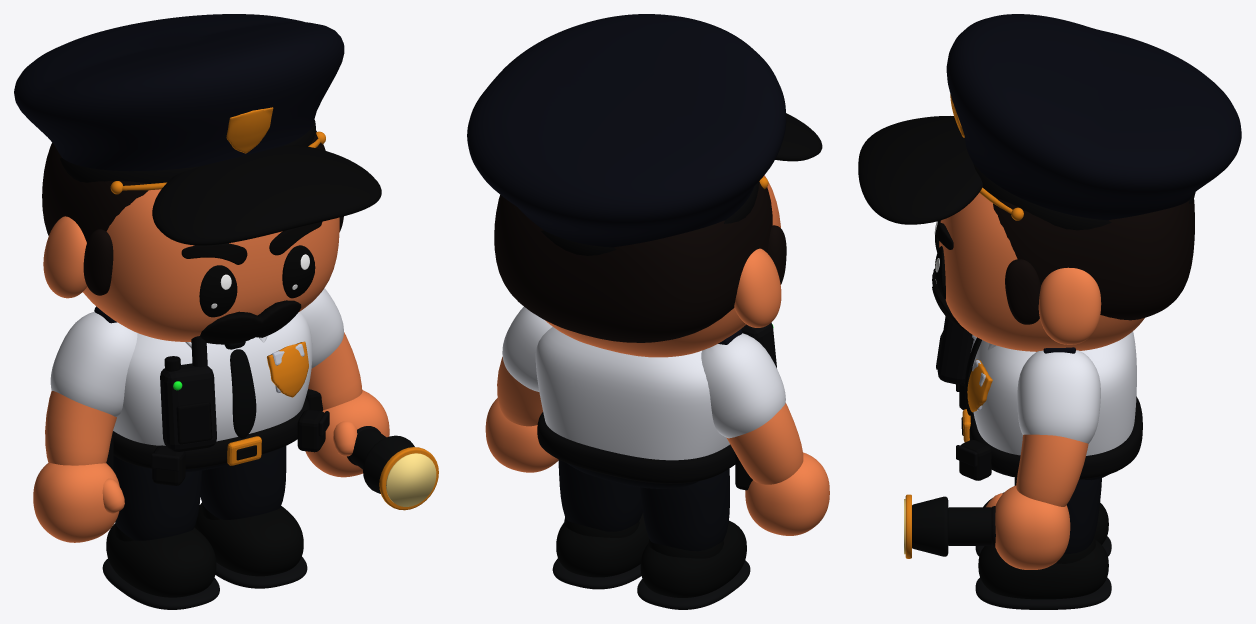
Rendered from guardia_partes.obj.
3 renders of one model, left to right at view 1: azimuth 30°, elevation 25°; view 2: azimuth 150°, elevation 25°; view 3: azimuth 270°, elevation 25°, orthographic. The views are drawn at different scales.
Visible parts, largest first — view 1: cabeza_gorra_cabeza_gorra, cabeza_piel_cabeza_piel, cabeza_visera_2_cabeza_visera_2, pecho_pantalon_pecho_pantalon, brazo.R_camisa_brazo.R_camisa, pie.R_bota_pie.R_bota, mano.R_piel_mano.R_piel, pie.L_bota_pie.L_bota, espinilla.R_pantalon_espinilla.R_pantalon, espinilla.L_pantalon_espinilla.L_pantalon, cabeza_pelo_cabeza_pelo, brazo.R_piel_brazo.R_piel (+28 smaller); view 2: cabeza_gorra_cabeza_gorra, cabeza_pelo_cabeza_pelo, pecho_pantalon_pecho_pantalon, brazo.R_camisa_brazo.R_camisa, espinilla.R_pantalon_espinilla.R_pantalon, cadera_cuero_cadera_cuero, mano.R_piel_mano.R_piel, pie.R_bota_pie.R_bota, espinilla.L_pantalon_espinilla.L_pantalon, brazo.R_piel_brazo.R_piel, pie.L_bota_pie.L_bota, cabeza_piel_cabeza_piel (+12 smaller); view 3: cabeza_gorra_cabeza_gorra, cabeza_pelo_cabeza_pelo, cabeza_visera_2_cabeza_visera_2, cabeza_piel_cabeza_piel, pecho_pantalon_pecho_pantalon, brazo.L_camisa_brazo.L_camisa, mano.L_piel_mano.L_piel, pie.L_bota_pie.L_bota, brazo.L_piel_brazo.L_piel, cabeza_piel_3_cabeza_piel_3, cadera_cuero_cadera_cuero, espinilla.L_pantalon_espinilla.L_pantalon (+8 smaller).
Part boxes in pixels (x1=…): cabeza_gorra_cabeza_gorra: x1=14, y1=14, x2=344, y2=171; cabeza_piel_cabeza_piel: x1=83, y1=189, x2=339, y2=341; cabeza_visera_2_cabeza_visera_2: x1=152, y1=145, x2=381, y2=245; pecho_pantalon_pecho_pantalon: x1=113, y1=312, x2=312, y2=472; brazo.R_camisa_brazo.R_camisa: x1=50, y1=311, x2=137, y2=416; pie.R_bota_pie.R_bota: x1=106, y1=523, x2=216, y2=597; mano.R_piel_mano.R_piel: x1=33, y1=463, x2=119, y2=542; pie.L_bota_pie.L_bota: x1=194, y1=502, x2=303, y2=576; espinilla.R_pantalon_espinilla.R_pantalon: x1=113, y1=456, x2=201, y2=540; espinilla.L_pantalon_espinilla.L_pantalon: x1=200, y1=446, x2=286, y2=519; cabeza_pelo_cabeza_pelo: x1=42, y1=131, x2=325, y2=242; brazo.R_piel_brazo.R_piel: x1=45, y1=391, x2=116, y2=465; cabeza_gorra_cabeza_gorra: x1=467, y1=14, x2=786, y2=247; cabeza_pelo_cabeza_pelo: x1=494, y1=181, x2=772, y2=342; pecho_pantalon_pecho_pantalon: x1=535, y1=327, x2=729, y2=488; brazo.R_camisa_brazo.R_camisa: x1=701, y1=333, x2=785, y2=438; espinilla.R_pantalon_espinilla.R_pantalon: x1=640, y1=469, x2=729, y2=551; cadera_cuero_cadera_cuero: x1=537, y1=412, x2=735, y2=483; mano.R_piel_mano.R_piel: x1=745, y1=452, x2=829, y2=535; pie.R_bota_pie.R_bota: x1=640, y1=520, x2=746, y2=597; espinilla.L_pantalon_espinilla.L_pantalon: x1=558, y1=460, x2=642, y2=531; brazo.R_piel_brazo.R_piel: x1=726, y1=403, x2=803, y2=484; pie.L_bota_pie.L_bota: x1=556, y1=512, x2=649, y2=577; cabeza_piel_cabeza_piel: x1=545, y1=175, x2=780, y2=357; cabeza_gorra_cabeza_gorra: x1=946, y1=14, x2=1241, y2=220; cabeza_pelo_cabeza_pelo: x1=993, y1=198, x2=1194, y2=320; cabeza_visera_2_cabeza_visera_2: x1=858, y1=116, x2=982, y2=224; cabeza_piel_cabeza_piel: x1=939, y1=193, x2=1144, y2=351; pecho_pantalon_pecho_pantalon: x1=972, y1=331, x2=1136, y2=480; brazo.L_camisa_brazo.L_camisa: x1=1017, y1=350, x2=1100, y2=443; mano.L_piel_mano.L_piel: x1=995, y1=485, x2=1070, y2=569; pie.L_bota_pie.L_bota: x1=978, y1=540, x2=1108, y2=599; brazo.L_piel_brazo.L_piel: x1=1016, y1=434, x2=1088, y2=506; cabeza_piel_3_cabeza_piel_3: x1=1038, y1=267, x2=1101, y2=344; cadera_cuero_cadera_cuero: x1=969, y1=396, x2=1142, y2=479; espinilla.L_pantalon_espinilla.L_pantalon: x1=1014, y1=477, x2=1101, y2=554.
Bounding box in the file's own units: 0.832 × 1.27 × 0.8339.
